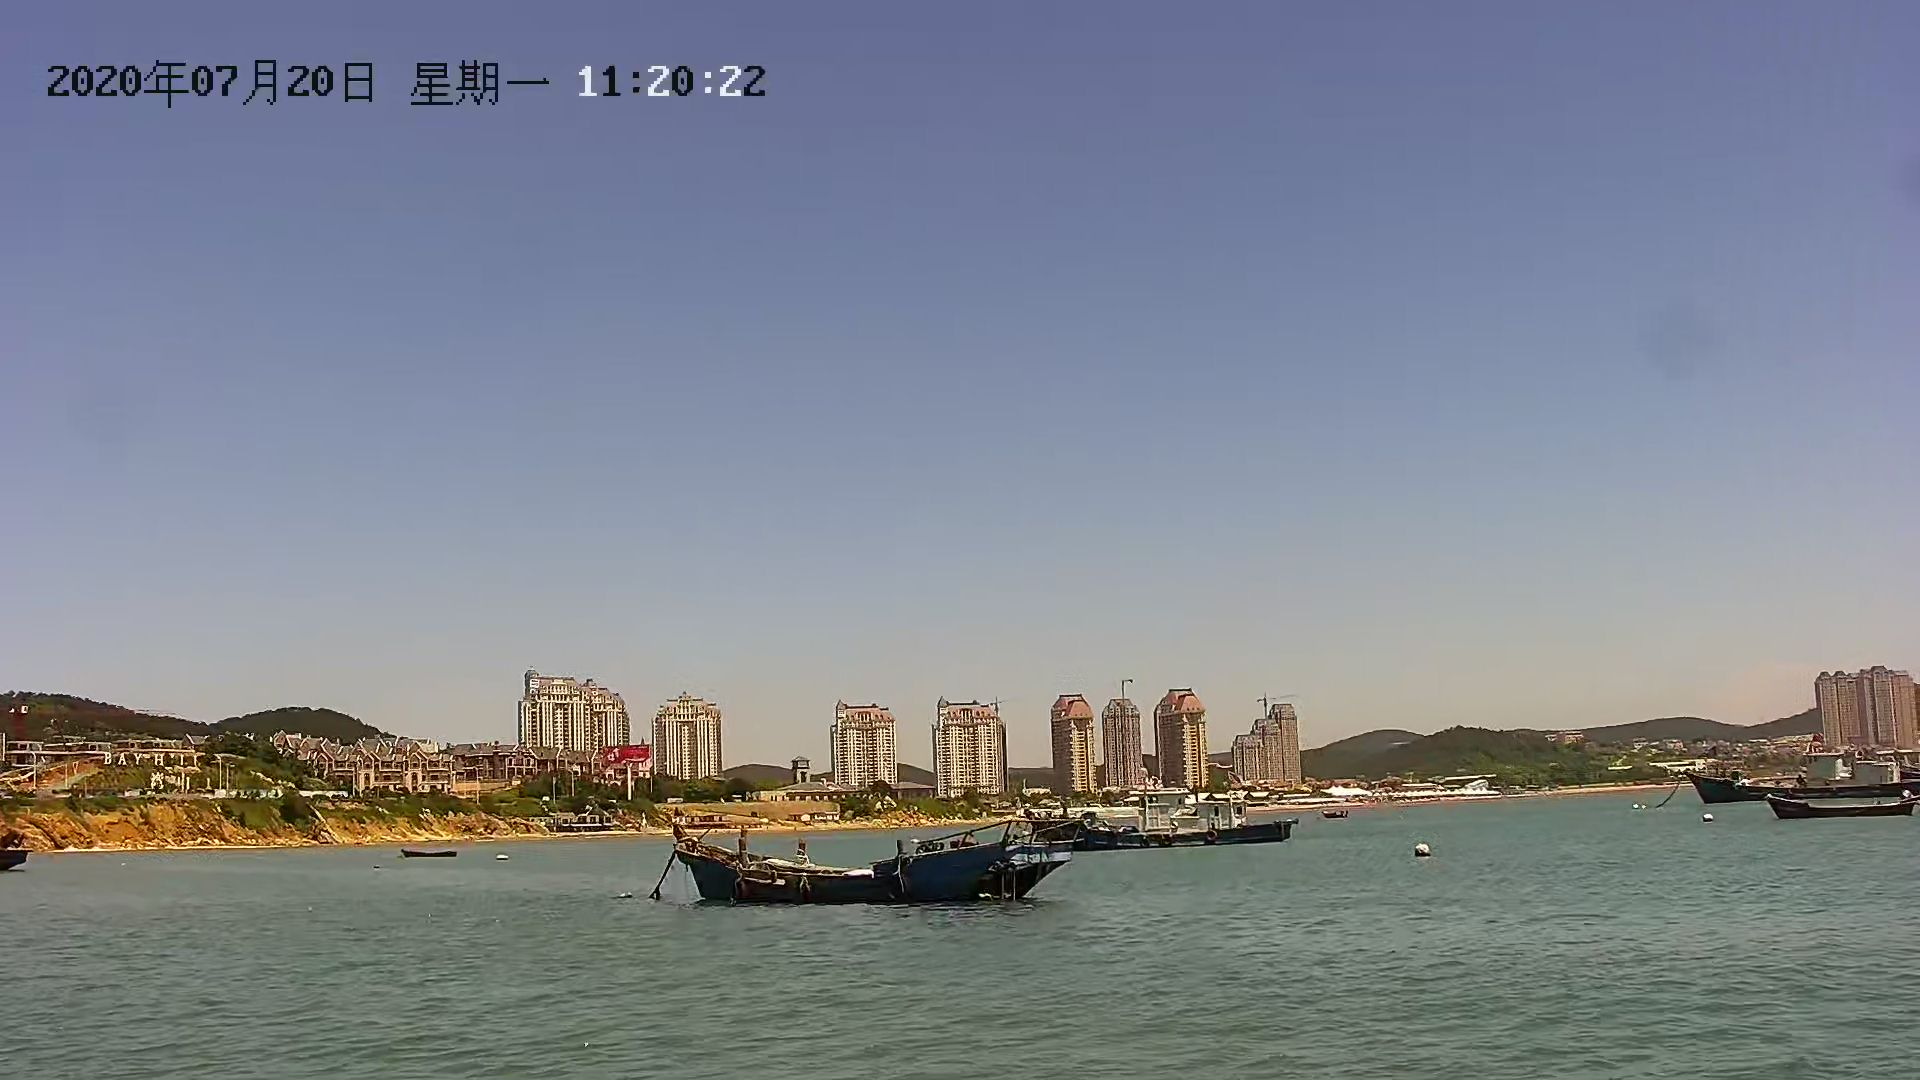ball: (1410, 835, 1436, 856)
boat: (657, 822, 1063, 915), (1027, 795, 1302, 858), (1669, 760, 1920, 806), (1747, 791, 1919, 824), (390, 843, 463, 862)
